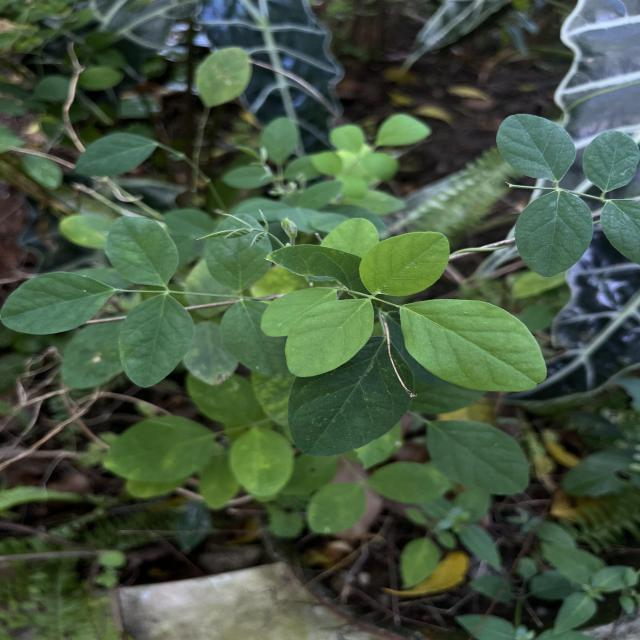Clitoria ternatea: (397, 298, 548, 393), (284, 297, 376, 378), (514, 190, 594, 278), (359, 230, 451, 298), (495, 113, 577, 183), (581, 130, 640, 192)
